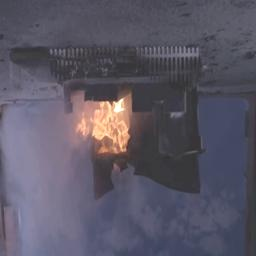fire: (72, 95, 132, 165)
